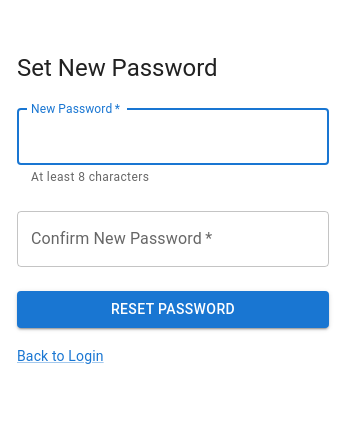
it: ResetPasswordPage › shows error when password is too short
Step 1. Type "short" into the password field labelled "New Password *" → (173, 136), box [17,108,329,164]
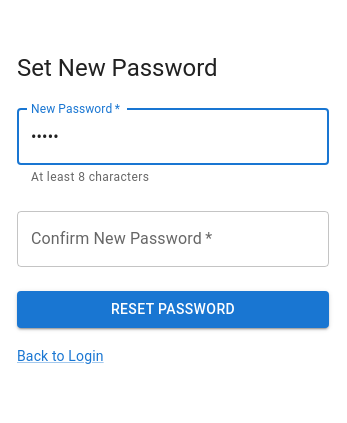
Step 2. Type "short" into the password field labelled "Confirm New Password *" → (173, 239), box [17,211,329,267]
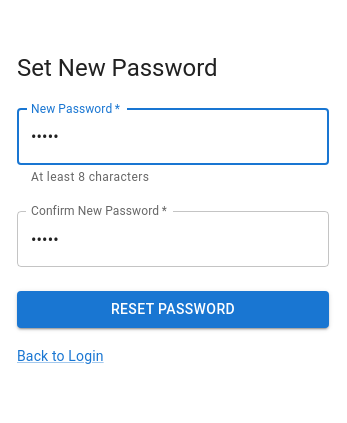
Step 3. Click the button "Reset Password" → (173, 310), box [17,291,329,328]
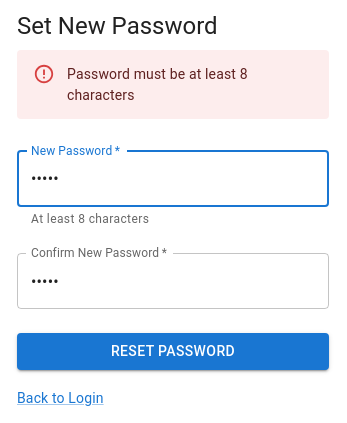
Check: the text "Password must be at least 8 characters" is shown, box [67,66,248,102]
